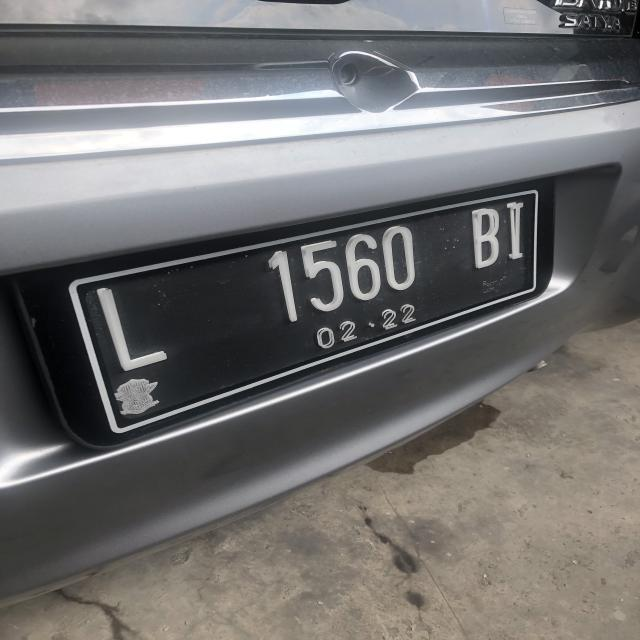0: (379, 222, 423, 290)
1: (262, 250, 301, 322)
5: (299, 238, 346, 314)
6: (343, 232, 385, 304)
B: (469, 207, 502, 266)
I: (504, 201, 530, 261)
L: (96, 285, 176, 369)
